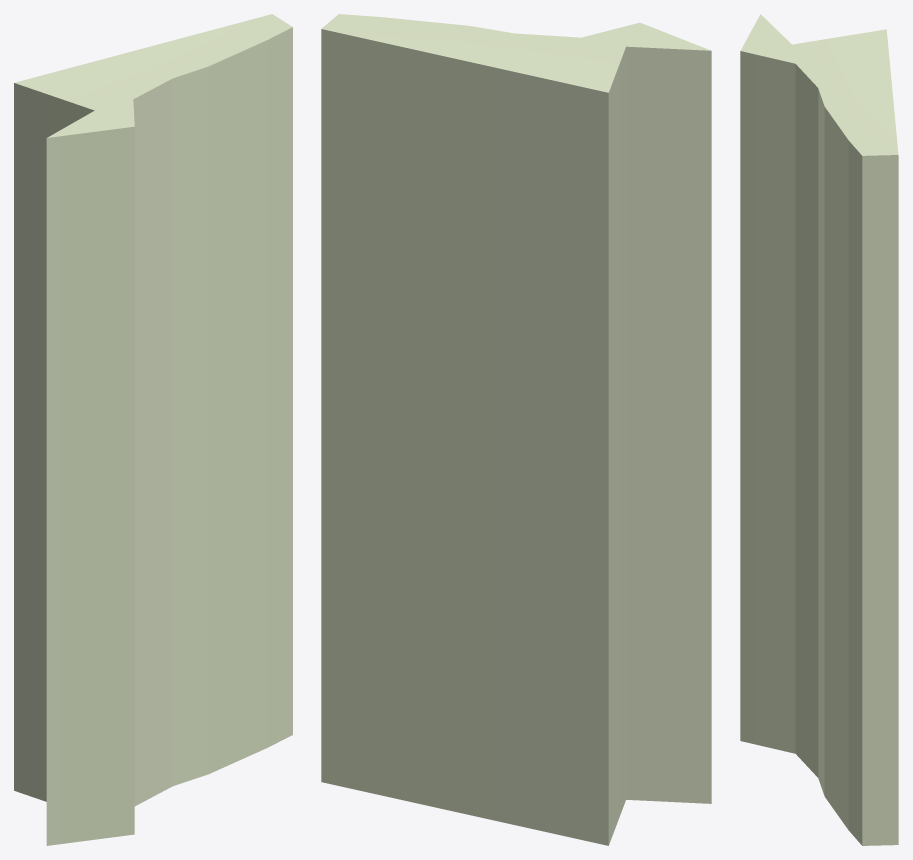
File: shrewsbury.glb
3 renders of one model, left to right at view 1: azimuth 30°, elevation 25°; view 2: azimuth 150°, elevation 25°; view 3: azimuth 270°, elevation 25°, orthographic. The views are drawn at different scales.
Parts seen in each view (by area): view 1: Plane.032; view 2: Plane.032; view 3: Plane.032.
Part boxes in pixels (x1=…): Plane.032: x1=14, y1=14, x2=292, y2=845; Plane.032: x1=321, y1=14, x2=711, y2=845; Plane.032: x1=740, y1=14, x2=898, y2=845.
Bounding box in the file's own units: 0.1701 × 0.3856 × 0.08.
Materials: 1 (1 with a texture image).
